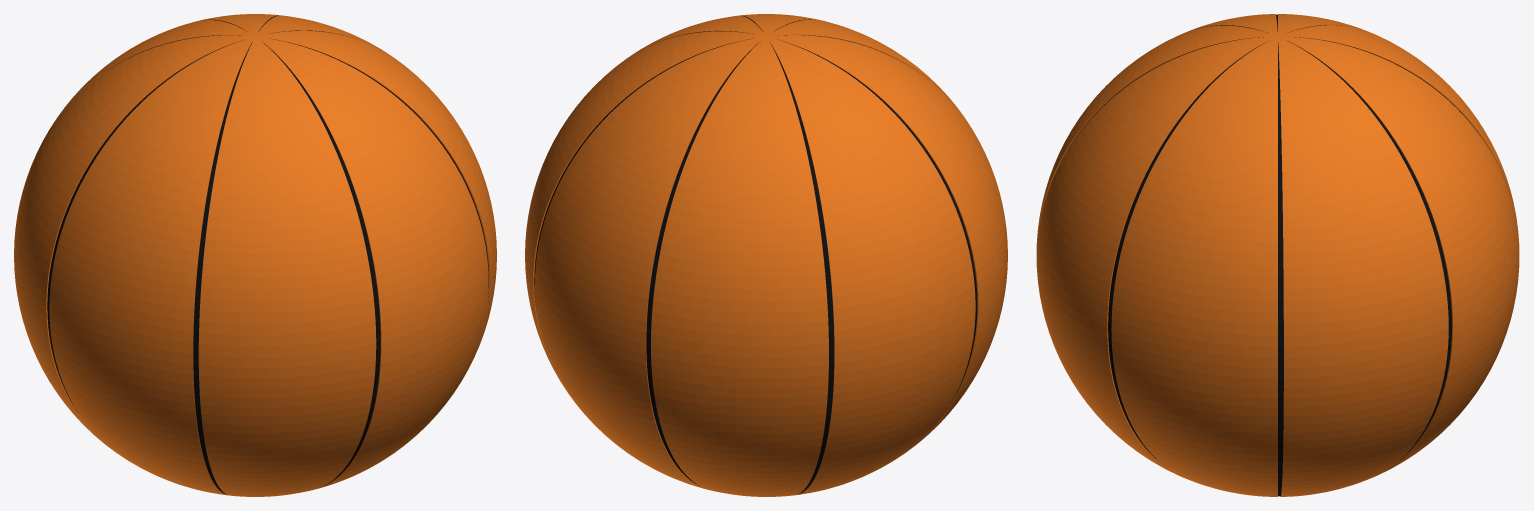
Rendered from Basketball.fbx.
3 renders of one model, left to right at view 1: azimuth 30°, elevation 25°; view 2: azimuth 150°, elevation 25°; view 3: azimuth 270°, elevation 25°, orthographic.
Visible parts, largest first — view 1: Sphere; view 2: Sphere; view 3: Sphere.
Part boxes in pixels (<box>): Sphere: <box>14,14,496,496</box>; Sphere: <box>525,14,1007,496</box>; Sphere: <box>1036,14,1519,496</box>.
Bounding box in the file's own units: 30 × 30 × 30.
